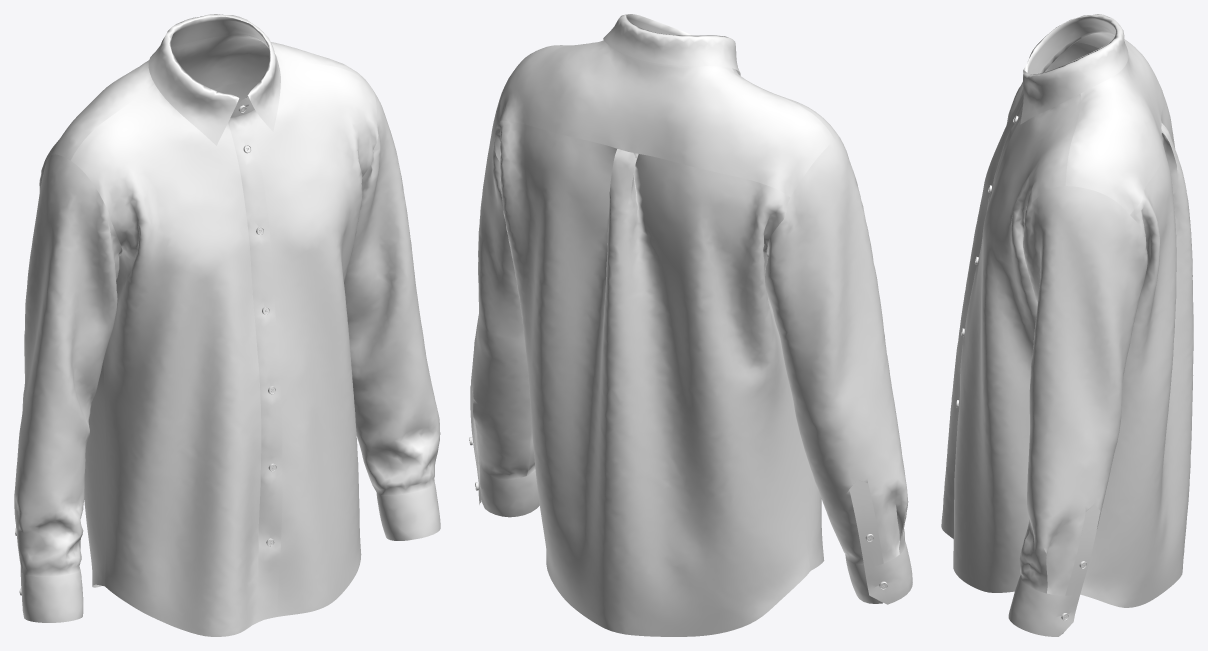
File: men1.glb
3 renders of one model, left to right at view 1: azimuth 30°, elevation 25°; view 2: azimuth 150°, elevation 25°; view 3: azimuth 270°, elevation 25°, orthographic. The views are drawn at different scales.
Visible parts, largest first — view 1: Cloth; view 2: Cloth; view 3: Cloth.
Boxes of the visible parts, x1,y1,x2,y2 form: Cloth: [14, 14, 440, 636]; Cloth: [470, 14, 912, 636]; Cloth: [941, 14, 1193, 636].
Bounding box in the file's own units: 61.11 × 77.93 × 32.95.
Materials: 11 (11 with a texture image).
